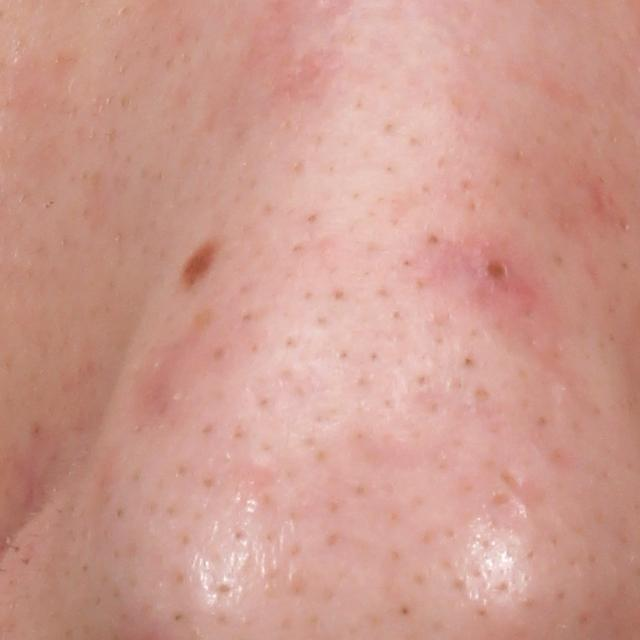nevus: (178, 235, 221, 291)
